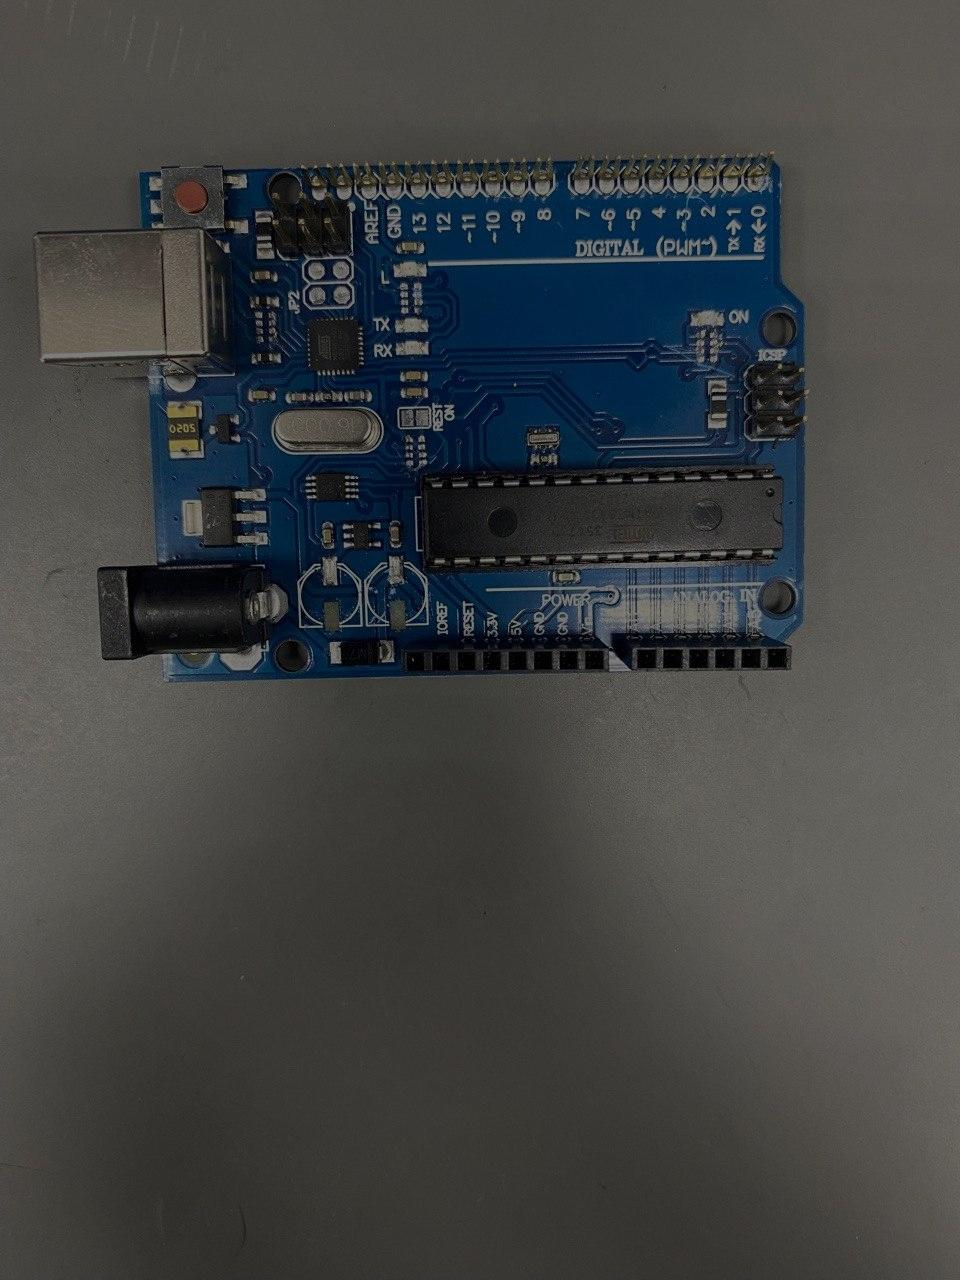ATmega328 chip: (424, 463, 786, 572)
Arduino board: (33, 152, 810, 681)
USB: (32, 227, 235, 379)
pins: (401, 635, 609, 676), (613, 632, 793, 671)
